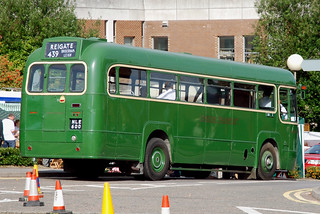bus: (19, 35, 299, 181)
